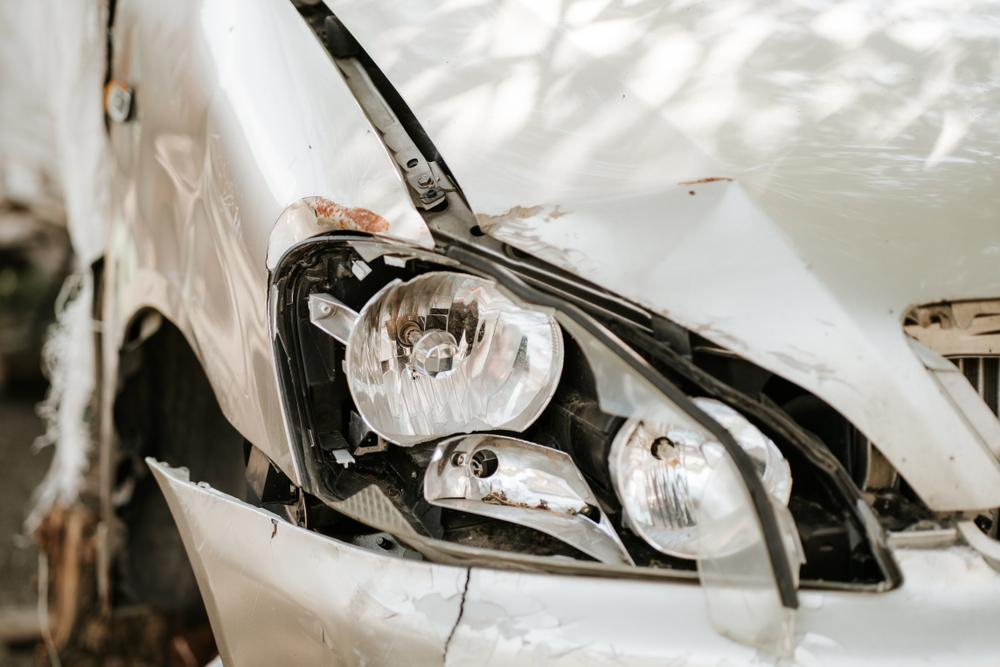crack: (443, 567, 473, 667)
dent: (267, 203, 364, 276)
lamp broken: (273, 237, 889, 589)
